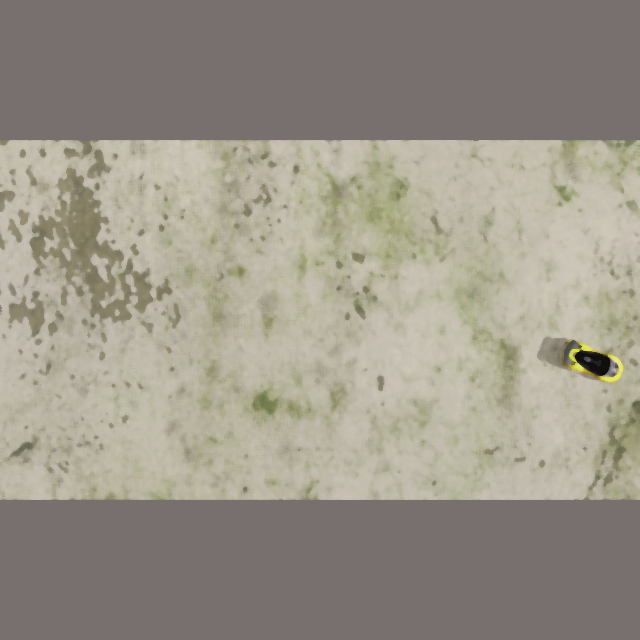car: (552, 336, 633, 389)
